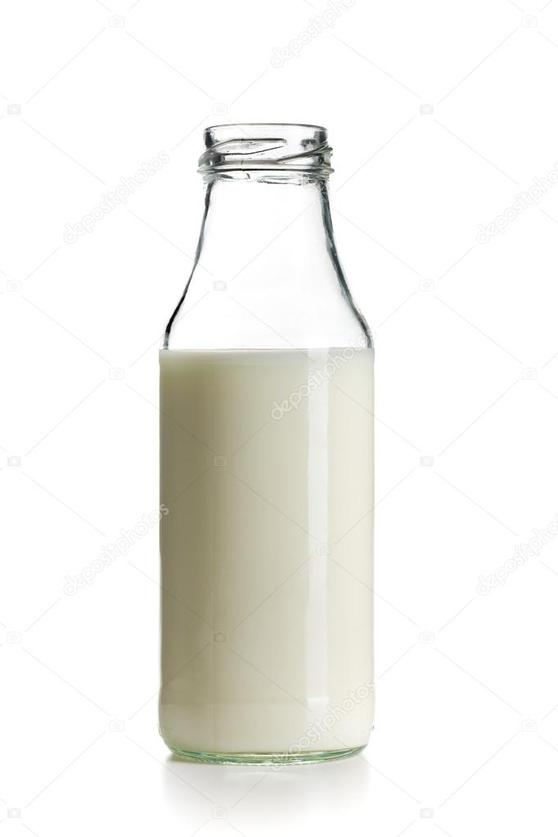milk: (157, 124, 377, 759)
